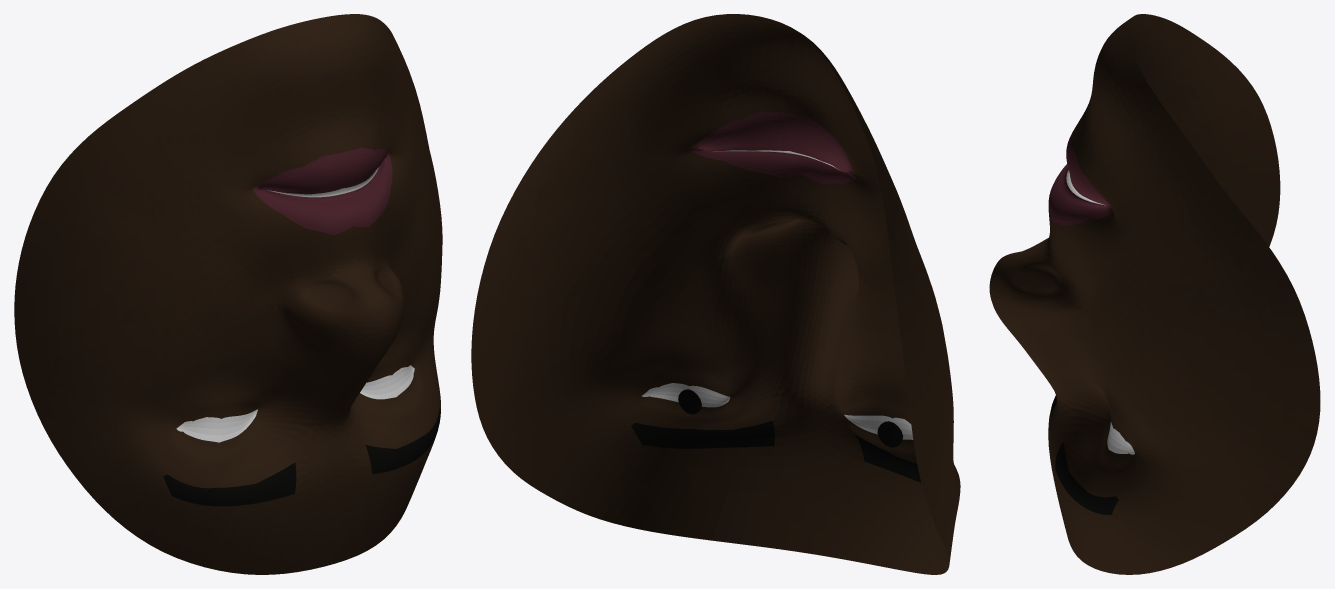
The model's file is childanger2.obj.
3 views of the same model, side by side, from view 1: azimuth 30°, elevation 25°; view 2: azimuth 150°, elevation 25°; view 3: azimuth 270°, elevation 25° (orthographic). The views are drawn at different scales.
Visible parts, largest first — view 1: face_mesh_subdivided; view 2: face_mesh_subdivided; view 3: face_mesh_subdivided.
Part boxes in pixels (left/top/right/bottom): face_mesh_subdivided: left=14, top=14, right=442, bottom=574; face_mesh_subdivided: left=471, top=14, right=960, bottom=574; face_mesh_subdivided: left=989, top=14, right=1320, bottom=574.
Size of the model in its own units: 0.6089 by 0.7667 by 0.4503.
